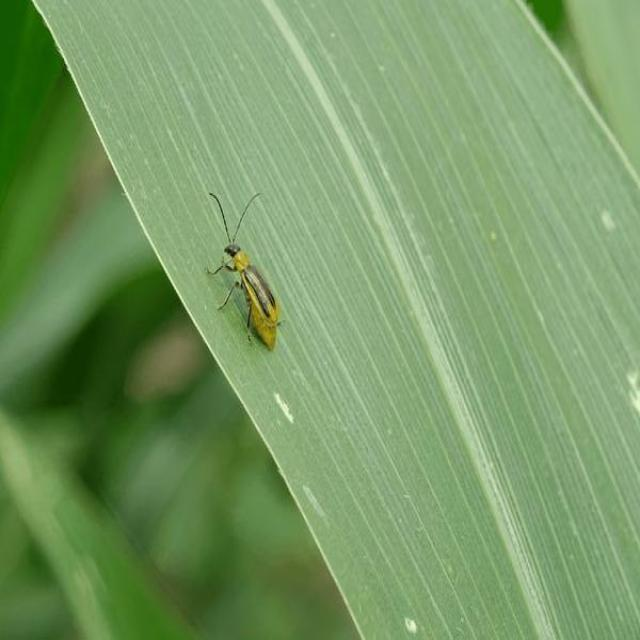trips: (200, 182, 286, 362)
